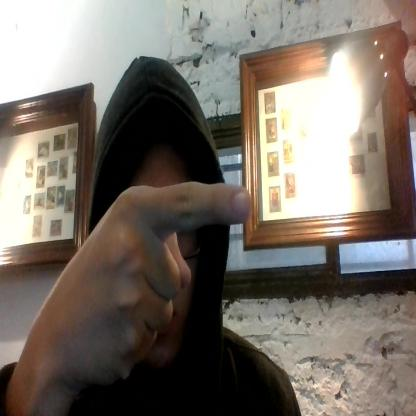left: (44, 175, 252, 385)
